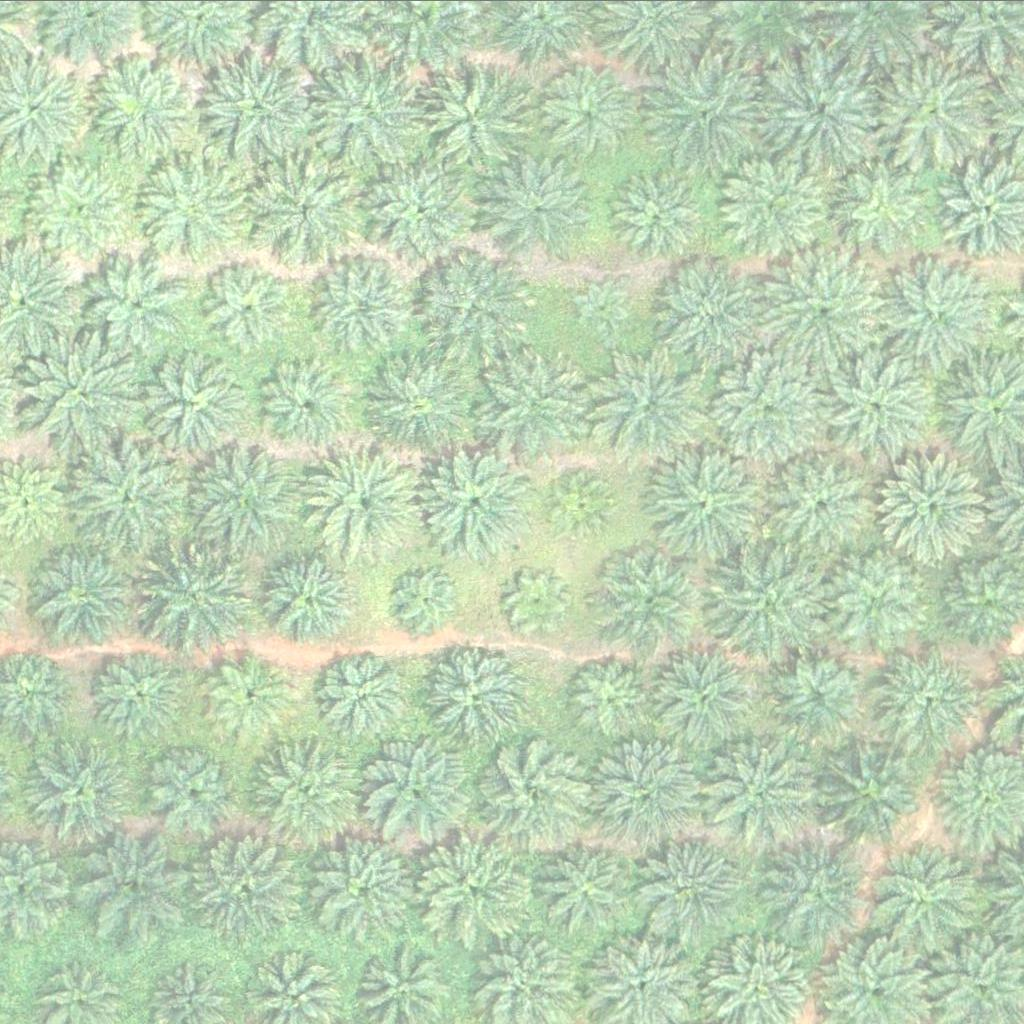Kelapa_Sawit: (28, 535, 142, 648), (141, 543, 255, 656), (643, 55, 757, 168), (487, 149, 601, 262), (815, 730, 929, 843), (867, 845, 981, 958), (193, 826, 306, 939), (312, 831, 425, 944), (250, 537, 363, 650), (312, 445, 425, 558), (140, 148, 253, 261), (249, 156, 362, 269), (317, 51, 430, 164), (416, 60, 529, 173), (765, 55, 878, 168), (368, 151, 481, 264), (589, 352, 702, 465), (712, 348, 825, 461), (423, 443, 536, 556), (649, 446, 762, 559), (478, 738, 591, 851), (591, 734, 704, 847), (706, 733, 819, 846), (416, 833, 529, 946), (536, 831, 649, 944), (879, 446, 992, 559), (824, 353, 937, 466), (878, 54, 991, 167), (73, 438, 187, 550), (185, 441, 299, 553), (253, 344, 367, 456), (422, 250, 536, 362), (365, 347, 479, 459), (755, 836, 869, 948), (72, 827, 185, 939), (19, 734, 132, 846), (250, 737, 363, 849), (23, 337, 136, 449), (136, 343, 249, 455), (204, 49, 317, 161), (720, 149, 833, 261), (654, 255, 767, 367), (767, 253, 880, 365), (478, 344, 591, 456), (768, 447, 881, 559), (595, 543, 708, 655), (717, 544, 830, 656), (422, 635, 535, 747), (653, 641, 766, 753), (363, 735, 476, 847), (638, 831, 751, 943), (885, 259, 998, 371), (139, 740, 240, 840), (85, 256, 186, 356), (31, 160, 132, 260), (91, 60, 192, 160), (770, 645, 871, 745), (825, 545, 926, 645), (825, 156, 926, 256), (91, 643, 191, 743), (314, 253, 414, 353), (537, 63, 637, 163), (606, 165, 706, 265), (875, 642, 975, 742), (323, 650, 411, 738), (563, 653, 651, 741), (207, 651, 295, 738), (204, 260, 292, 347), (550, 472, 613, 535), (396, 564, 459, 627), (507, 569, 570, 632), (570, 276, 633, 338)
